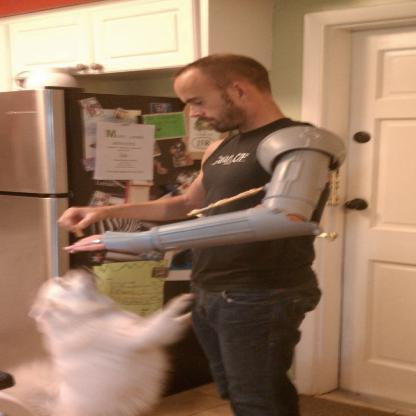door: (336, 27, 416, 413)
knob: (344, 200, 359, 211)
